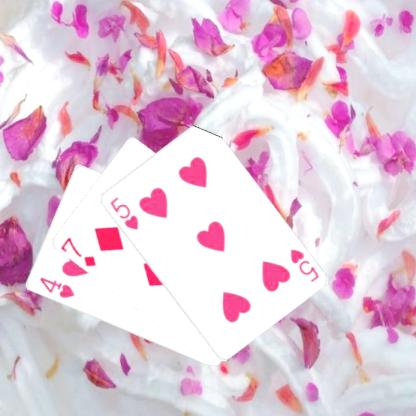4H: (36, 274, 76, 300)
5H: (107, 194, 140, 232), (287, 246, 320, 284)
7D: (58, 235, 97, 268)
